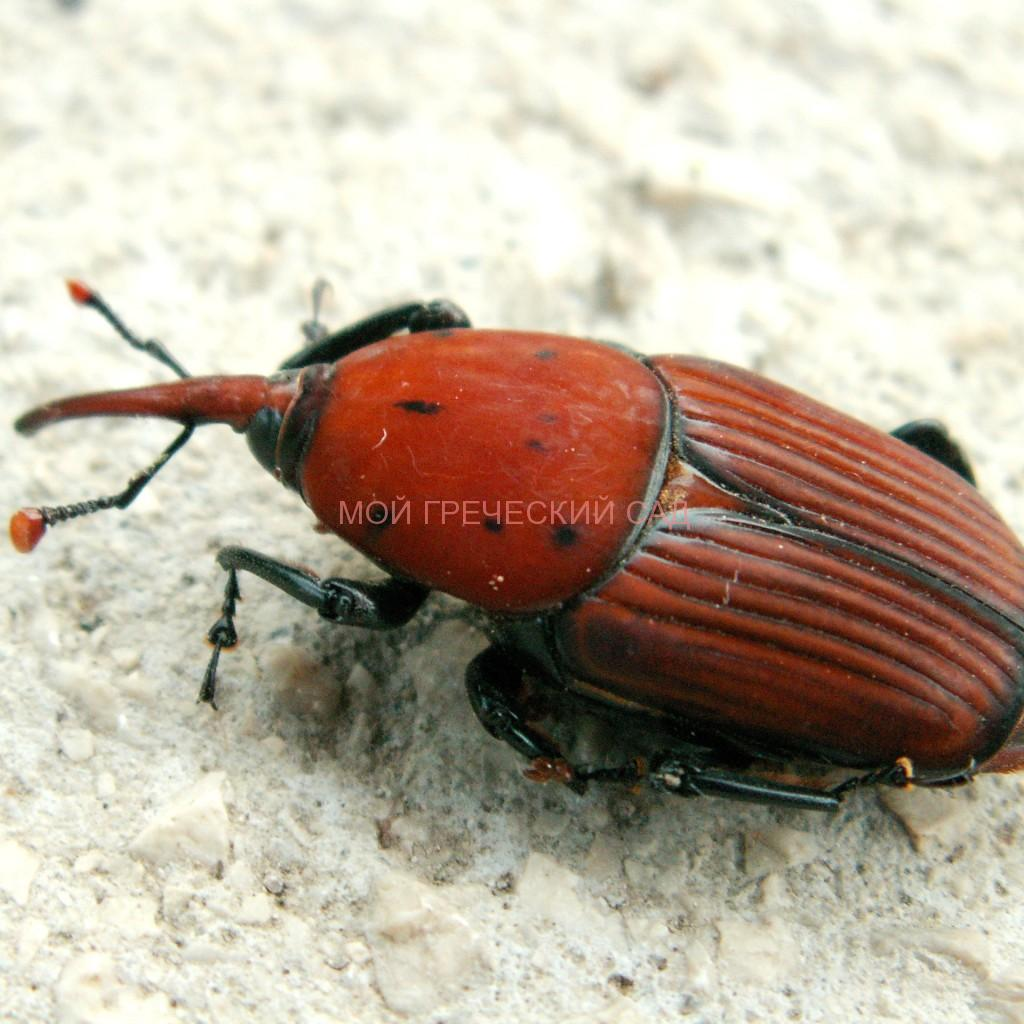dolgonosik: (17, 274, 1024, 875)
